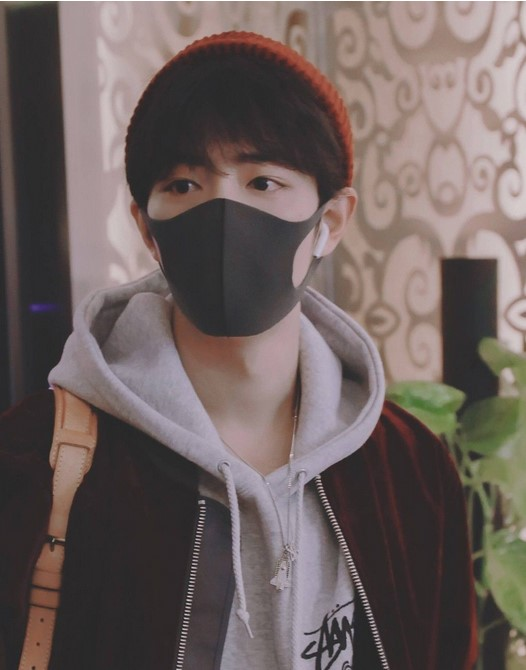face_with_mask: (124, 50, 362, 344)
